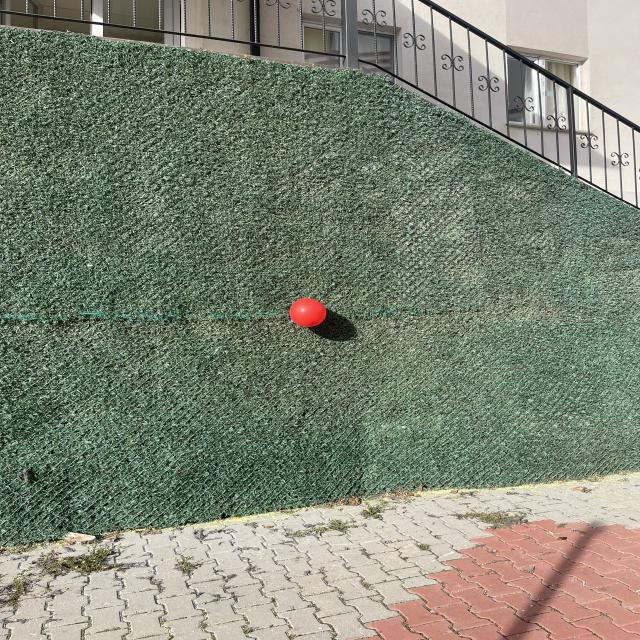balloon: (290, 298, 326, 327)
